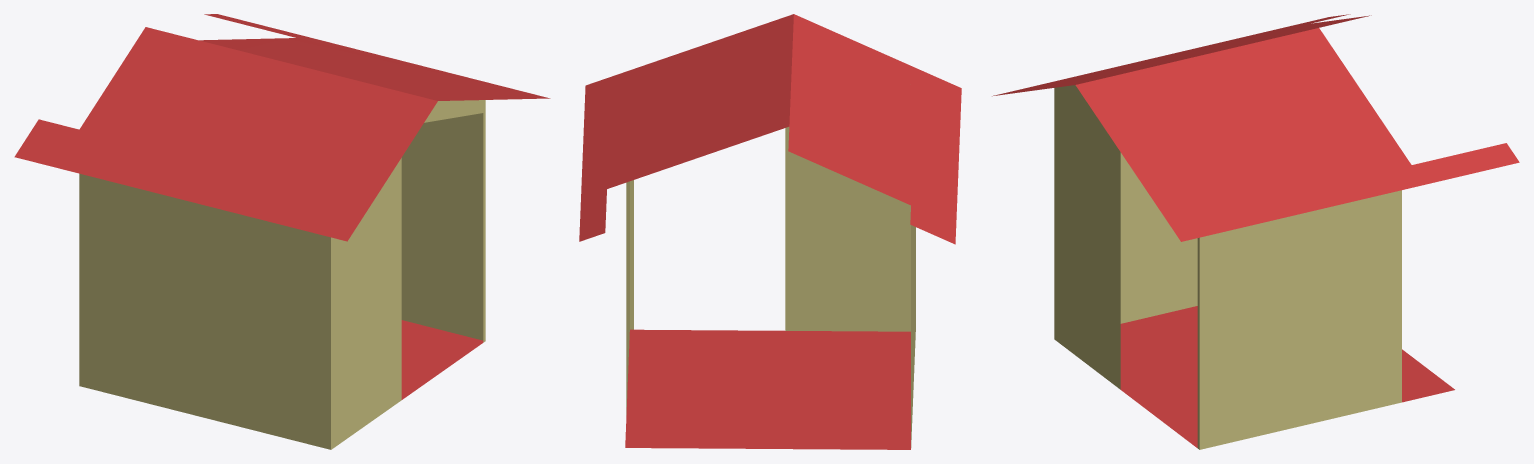
The picture shows the model from 3 angles, left to right: view 1: azimuth 30°, elevation 25°; view 2: azimuth 150°, elevation 25°; view 3: azimuth 270°, elevation 25°; orthographic projection. The views are drawn at different scales.
Size of the model in its own units: 11.25 by 11.2 by 7.27.
